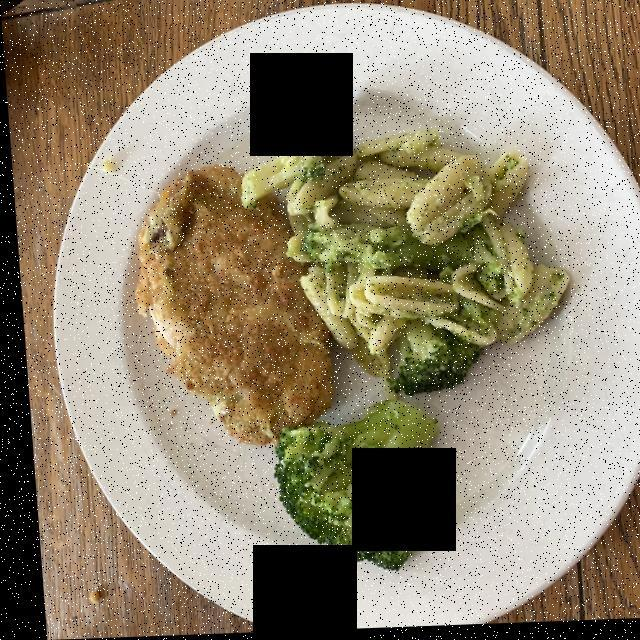pasta: (248, 145, 566, 359)
pork-schnitzel-fried: (136, 160, 335, 435)
